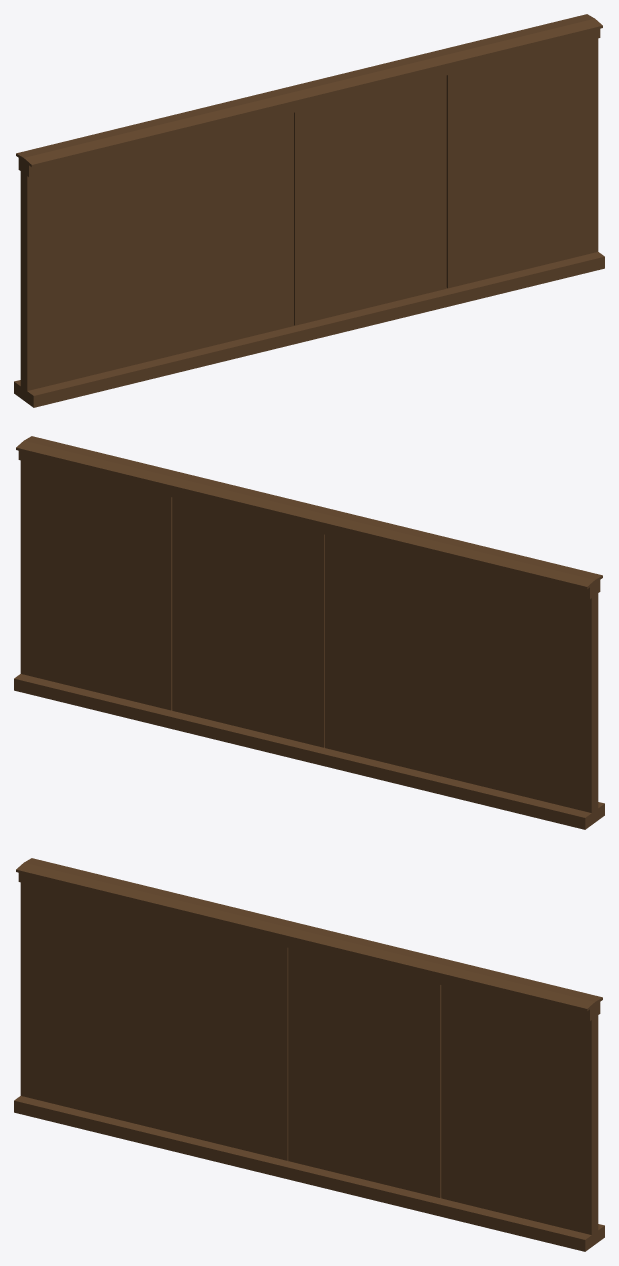
The model's file is japan_wall-japan-wood.fbx.
3 views of the same model, one above another, from view 1: azimuth 30°, elevation 25°; view 2: azimuth 150°, elevation 25°; view 3: azimuth 330°, elevation 25° (orthographic).
Visible parts, largest first — view 1: japan_wall_japan_wood; view 2: japan_wall_japan_wood; view 3: japan_wall_japan_wood.
Part boxes in pixels (x1,y1,x2,y2): japan_wall_japan_wood: (14, 14, 604, 407); japan_wall_japan_wood: (14, 436, 604, 829); japan_wall_japan_wood: (14, 858, 604, 1251).
Size of the model in its own units: 200 by 81.2 by 12.
